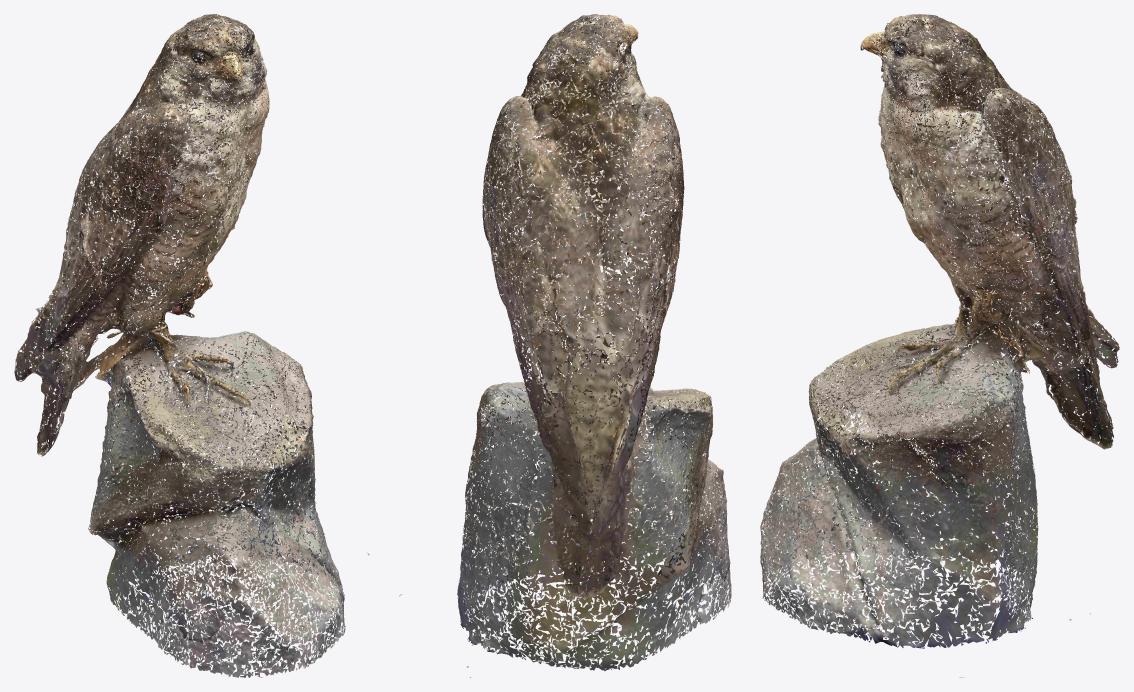
The model's file is n2__peregrine.glb.
The picture shows the model from 3 angles, left to right: view 1: azimuth 30°, elevation 25°; view 2: azimuth 150°, elevation 25°; view 3: azimuth 270°, elevation 25°; orthographic projection. The views are drawn at different scales.
Parts seen in each view (by area): view 1: Object_2, Object_11, Object_10, Object_9, Object_3, Object_4, Object_5, Object_12, Object_6, Object_13, Object_7, Object_14; view 2: Object_9, Object_10, Object_11, Object_2, Object_12, Object_4, Object_3, Object_5, Object_13, Object_6, Object_7, Object_14; view 3: Object_11, Object_3, Object_10, Object_9, Object_2, Object_4, Object_12, Object_5, Object_6, Object_13, Object_7, Object_14.
Part boxes in pixels (left/top/right/bottom): Object_2: left=16, top=16, right=343, bottom=675; Object_11: left=36, top=14, right=344, bottom=677; Object_10: left=14, top=18, right=369, bottom=664; Object_9: left=19, top=15, right=342, bottom=665; Object_3: left=22, top=14, right=335, bottom=672; Object_4: left=19, top=14, right=341, bottom=677; Object_5: left=15, top=14, right=345, bottom=674; Object_12: left=14, top=15, right=344, bottom=677; Object_6: left=22, top=14, right=343, bottom=670; Object_13: left=16, top=16, right=344, bottom=673; Object_7: left=26, top=24, right=342, bottom=667; Object_14: left=23, top=21, right=344, bottom=672; Object_9: left=460, top=22, right=726, bottom=668; Object_10: left=399, top=15, right=730, bottom=668; Object_11: left=458, top=14, right=730, bottom=670; Object_2: left=459, top=14, right=721, bottom=662; Object_12: left=457, top=14, right=730, bottom=667; Object_4: left=458, top=16, right=726, bottom=647; Object_3: left=464, top=14, right=726, bottom=663; Object_5: left=457, top=15, right=731, bottom=669; Object_13: left=459, top=15, right=730, bottom=670; Object_6: left=462, top=14, right=726, bottom=655; Object_7: left=457, top=14, right=727, bottom=677; Object_14: left=458, top=21, right=729, bottom=667; Object_11: left=766, top=14, right=1112, bottom=642; Object_3: left=760, top=19, right=1110, bottom=627; Object_10: left=762, top=14, right=1118, bottom=677; Object_9: left=760, top=19, right=1119, bottom=648; Object_2: left=760, top=16, right=1115, bottom=647; Object_4: left=761, top=15, right=1113, bottom=647; Object_12: left=761, top=14, right=1118, bottom=643; Object_5: left=760, top=16, right=1118, bottom=630; Object_6: left=761, top=14, right=1119, bottom=645; Object_13: left=761, top=14, right=1118, bottom=647; Object_7: left=760, top=21, right=1109, bottom=647; Object_14: left=761, top=14, right=1116, bottom=645.
Bounding box in the file's own units: 5.38 × 10.82 × 6.07.
2 materials, 2 textured.
